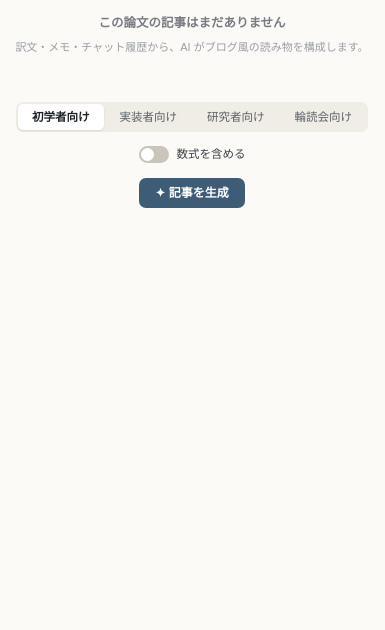
Test: ArticleGenerateCTA (1h §5.2) › shows an error toast when the generate request fails
Click the button "✦ 記事を生成" at (192, 193), box [139,178,245,208]
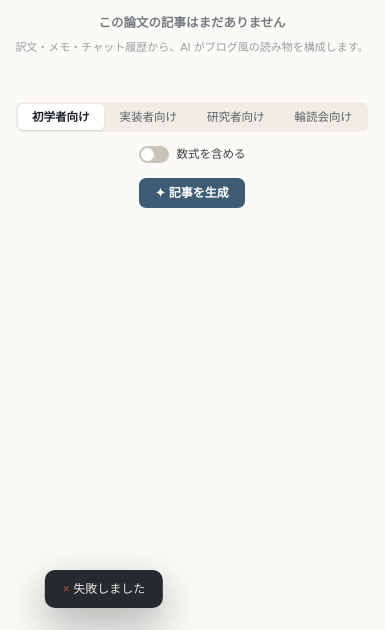
Check: the text "失敗しました" is shown, box [73,582,145,596]
